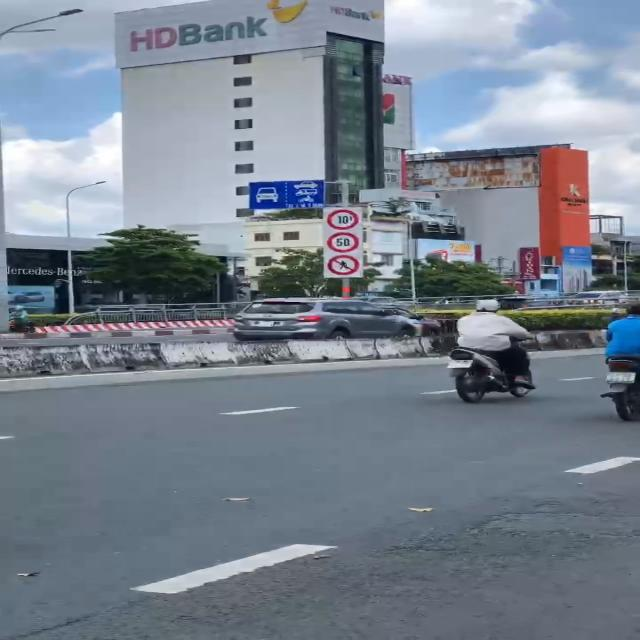Bien bao cam nguoi di bo: (324, 254, 363, 276)
Bien bao toc do toi da cho phep: (325, 230, 361, 254)
